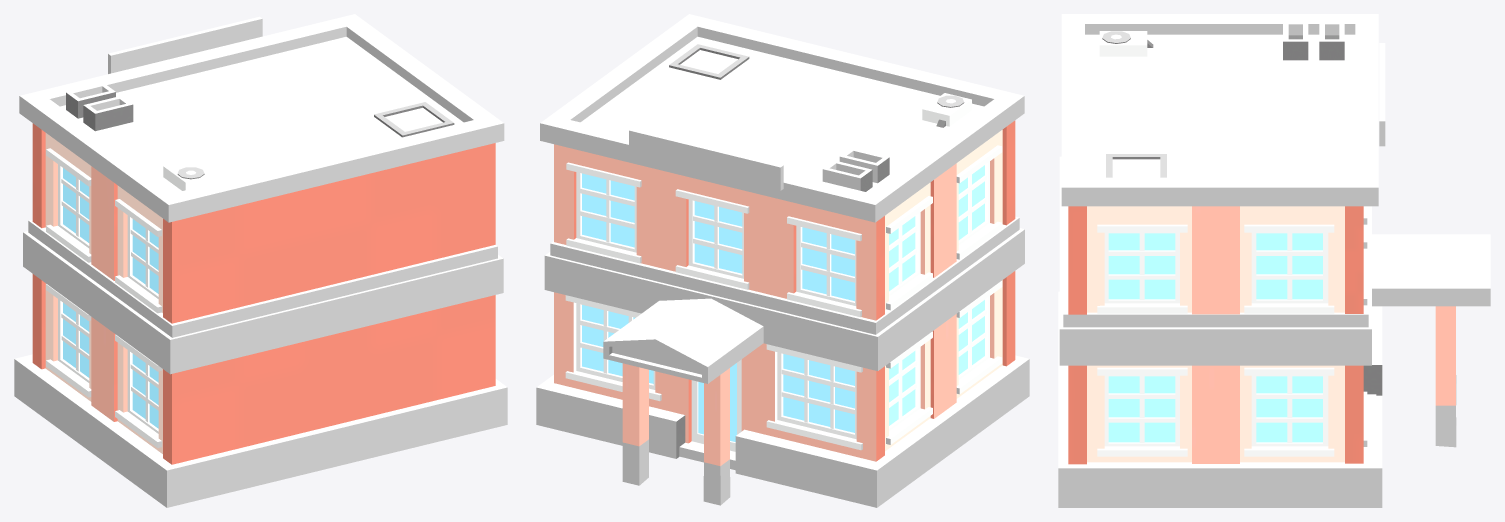
File: bank.002.glb
3 views of the same model, side by side, from view 1: azimuth 30°, elevation 25°; view 2: azimuth 150°, elevation 25°; view 3: azimuth 270°, elevation 25° (orthographic). The views are drawn at different scales.
Visible parts, largest first — view 1: bank.002(Clone); view 2: bank.002(Clone); view 3: bank.002(Clone).
Boxes of the visible parts, x1,y1,x2,y2 form: bank.002(Clone): [14, 14, 507, 507]; bank.002(Clone): [536, 14, 1029, 507]; bank.002(Clone): [1058, 14, 1490, 507].
Size of the model in its own units: 7.1 by 6.37 by 7.34.
1 material, 1 textured.
